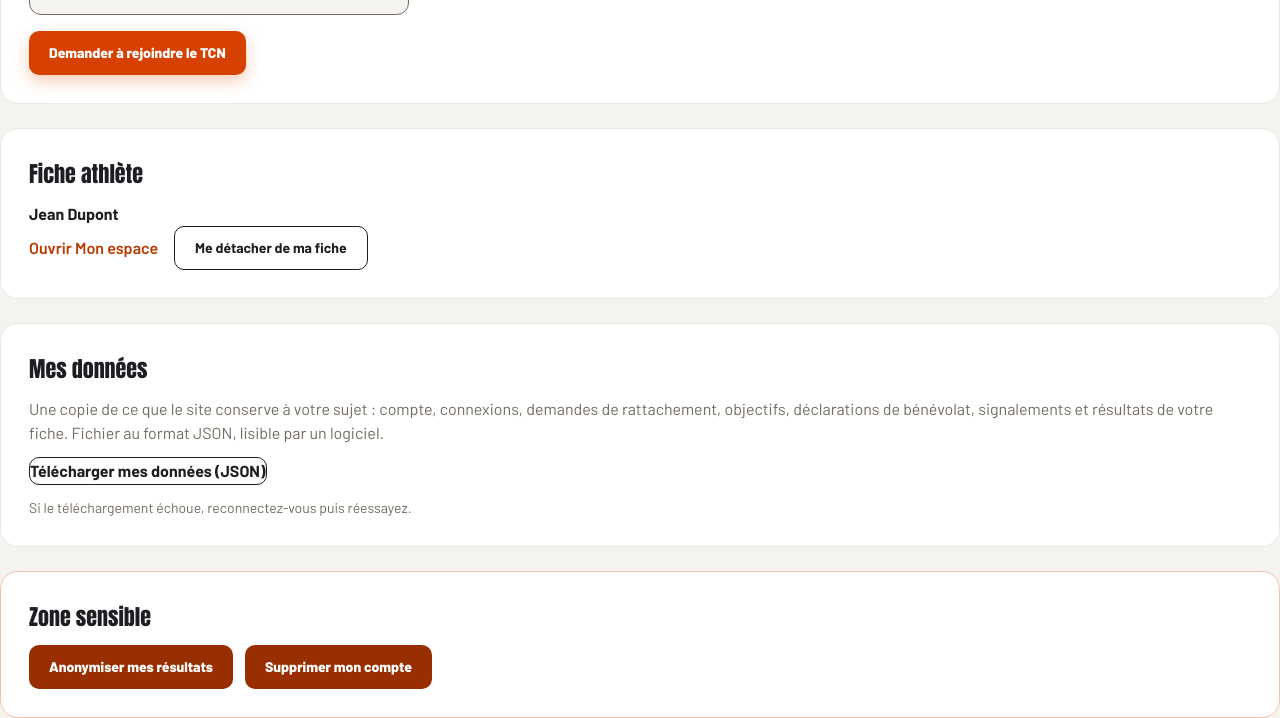
AccountPage: anonymise my results (#1673) › turns a 409 from the server into the same club redirection
(page scrolled)
Click the button "Anonymiser mes résultats". click: (131, 667)
box: [29,645,233,689]
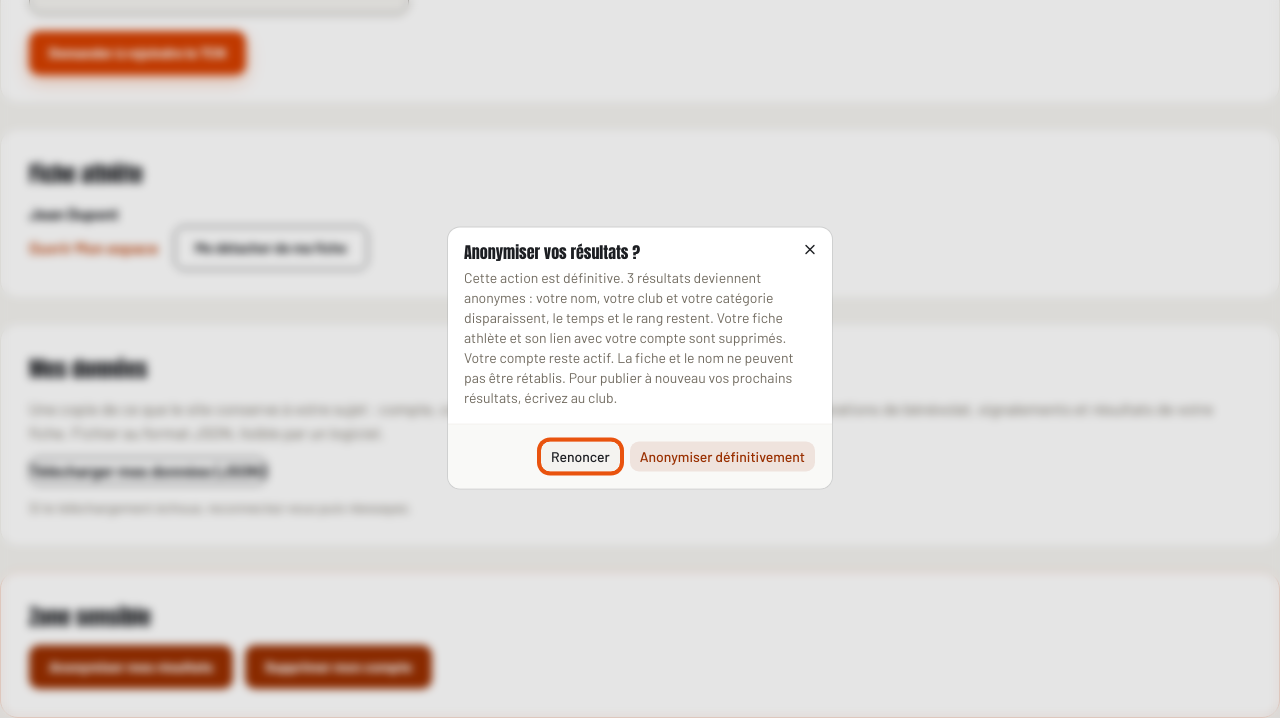
Check: the button "Anonymiser définitivement" is enabled
Click the button "Anonymiser définitivement". click: (722, 456)
box: [629,440,816,472]
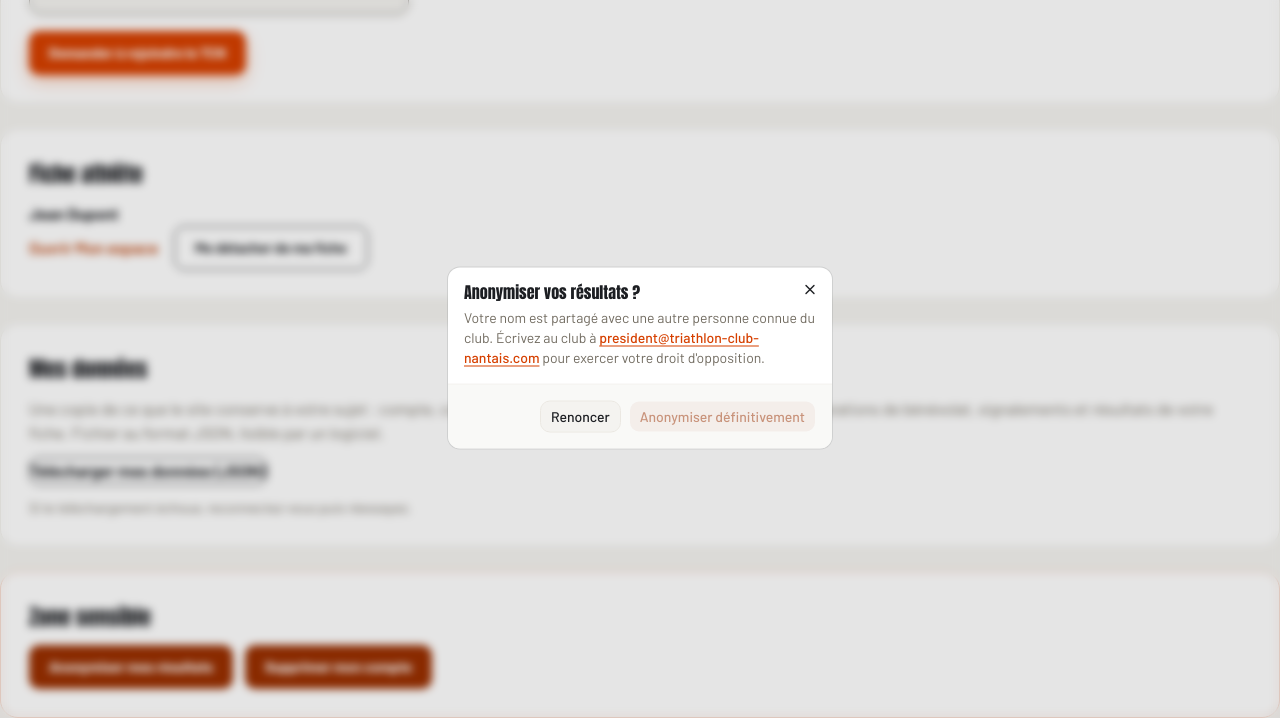
Check: the button "Anonymiser définitivement" is disabled, box [629,400,816,432]
Check: the dialog no longer shows "deviennent anonymes", box [448,268,832,448]
Check: the dialog shows "partagé avec une autre personne connue du club", box [464,308,815,346]
